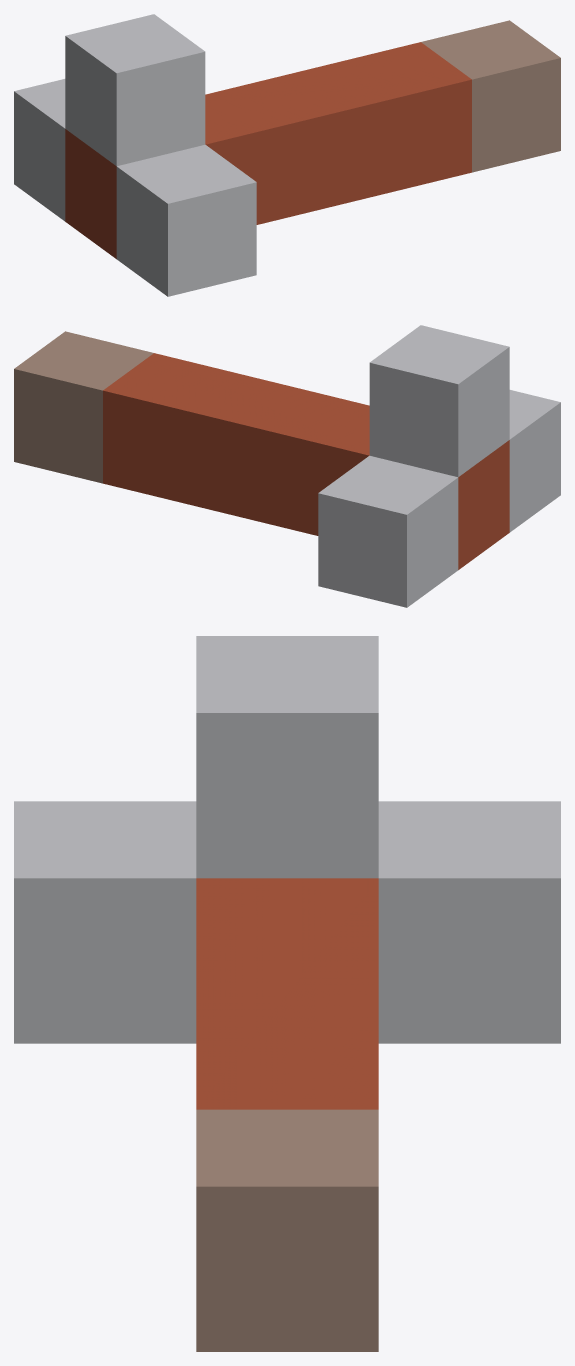
File: arrow.obj
3 views of the same model, one above another, from view 1: azimuth 30°, elevation 25°; view 2: azimuth 150°, elevation 25°; view 3: azimuth 270°, elevation 25° (orthographic). The views are drawn at different scales.
Size of the model in its own units: 0.5 by 0.2 by 0.3.
1 material, 1 textured.
